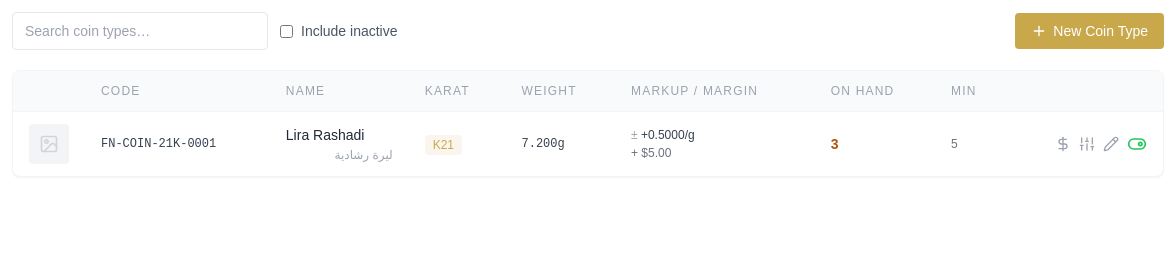
Test: UnitCatalog lists what the backend lists › hides inactive types until asked, and narrows by search
Expected: the text "Lira Rashadi" is shown, [286, 127, 364, 143]
Expected: the text "English Sovereign" is not shown
Click the checkbox labelled "Include inactive". click: click(286, 31)
box: [280, 24, 293, 38]
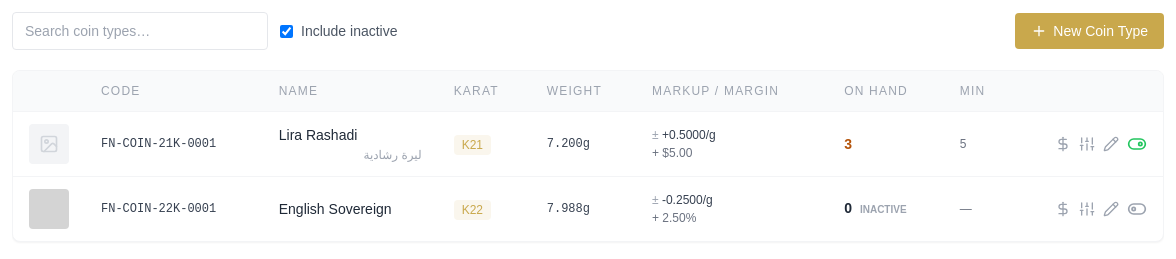
Now the text "English Sovereign" is shown, box [279, 201, 392, 217]
Now the text "inactive" is shown, box [860, 204, 907, 215]
Type "sovereign" into the field labelled "Search coin types…". click: (140, 31)
box: [12, 12, 268, 50]
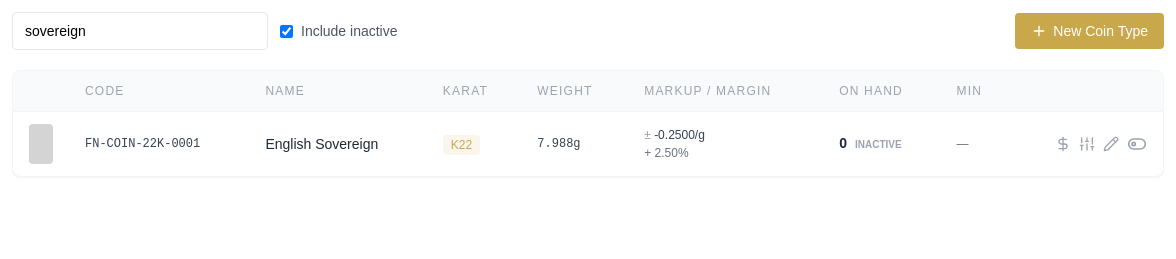
Now the text "English Sovereign" is shown, box [265, 136, 378, 152]
Now the text "Lira Rashadi" is gone
